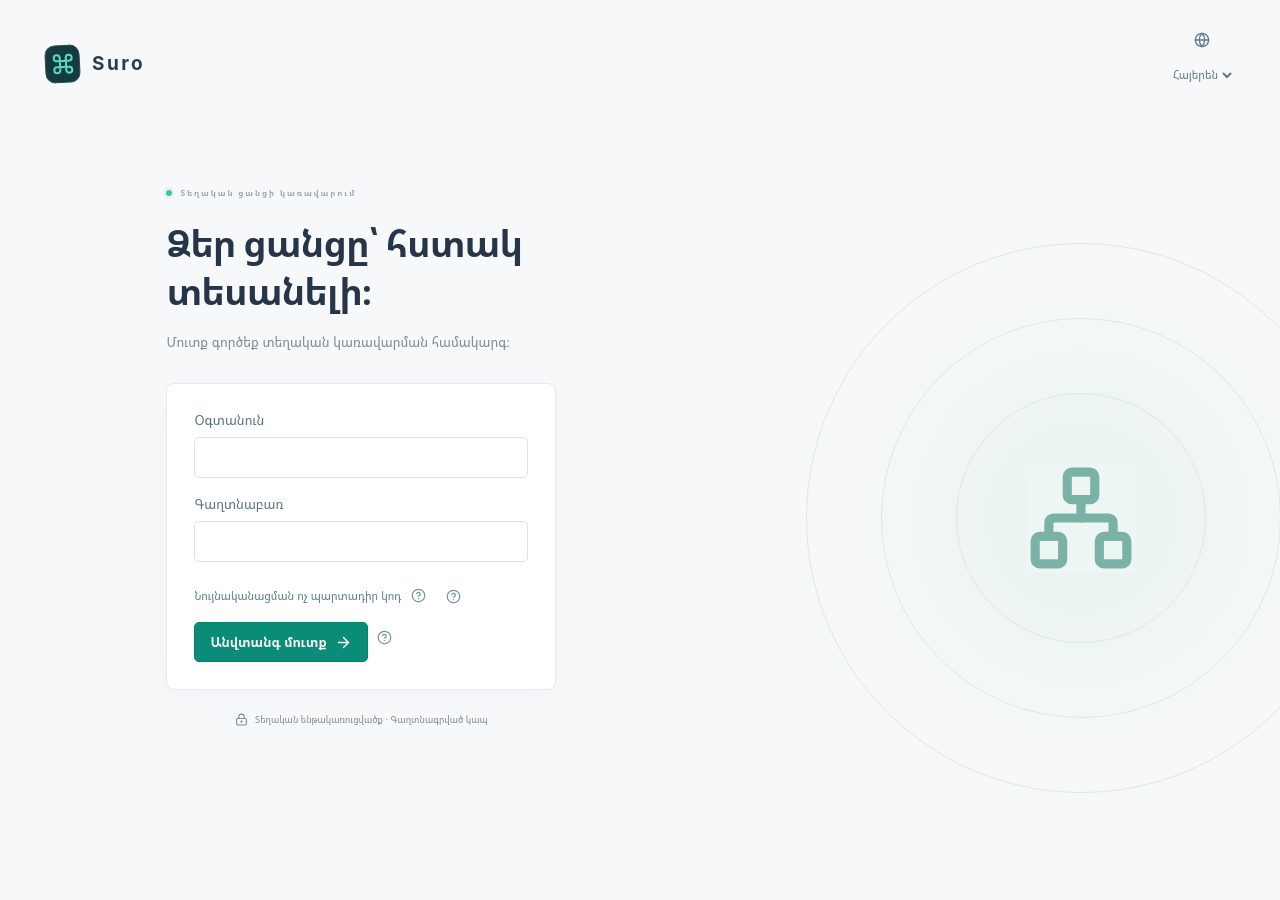
it: brands the login Suro, defaults to Armenian and leaves OTP optional
Expected: the heading "Ձեր ցանցը՝ հստակ տեսանելի։" is shown, [166, 220, 556, 316]
Expected: the text "Suro" is shown, [92, 52, 145, 75]
Click the button "Նույնականացման ոչ պարտադիր կոդ": coordinates (298, 596) [194, 583, 401, 608]
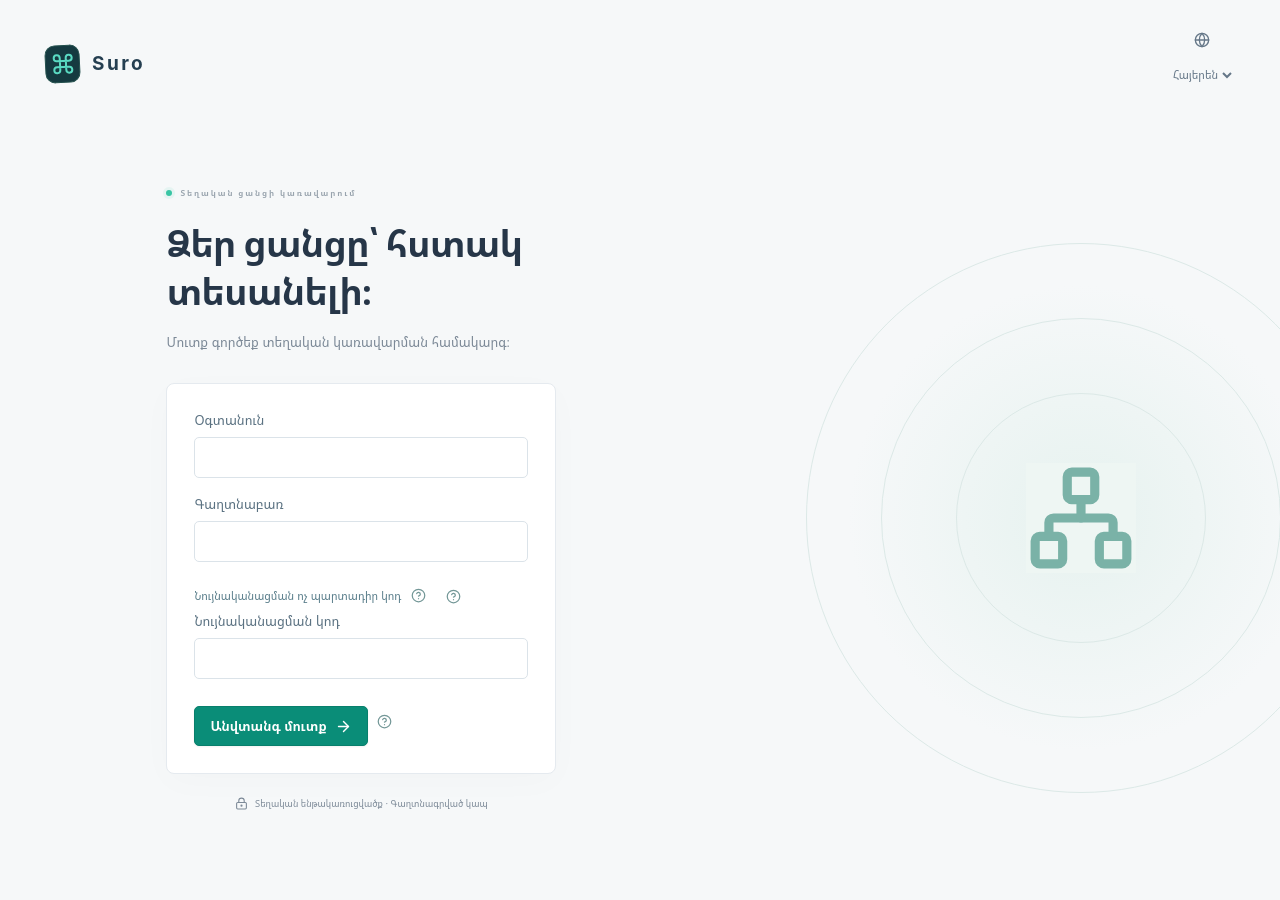
Now the field named "totp" is shown, box [194, 638, 528, 679]
